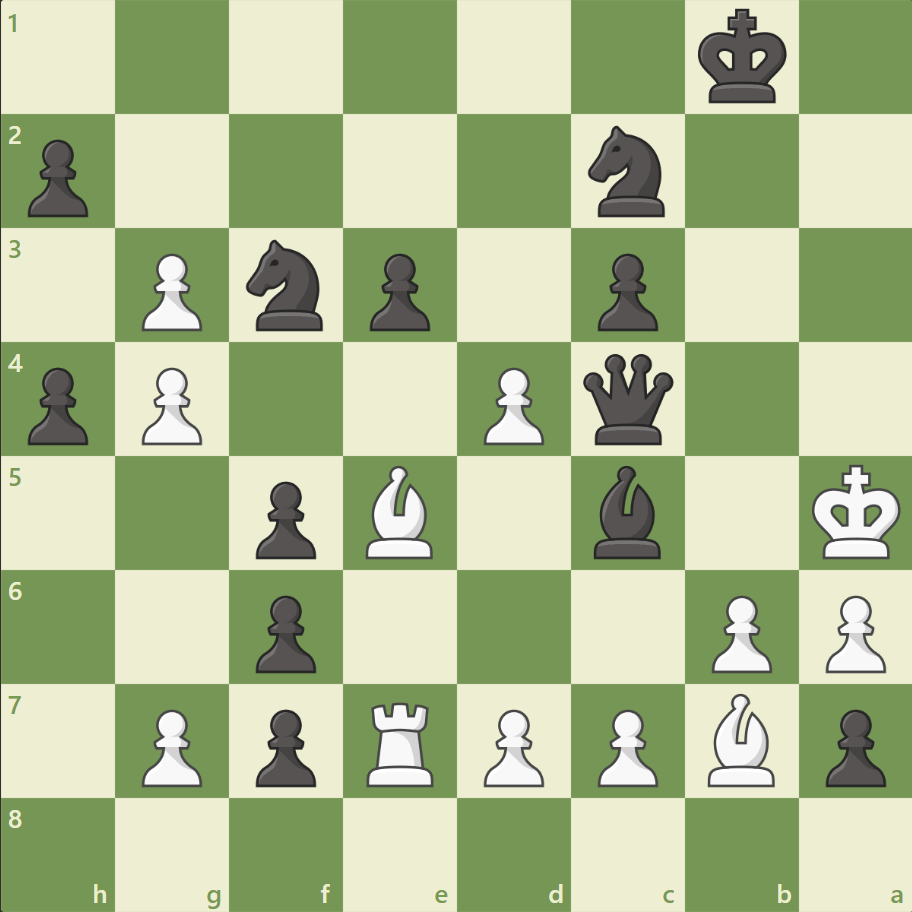B: (698, 687, 782, 790), (358, 460, 442, 563)
K: (806, 458, 906, 566)
P: (474, 700, 549, 791), (133, 700, 208, 791), (701, 586, 776, 677), (474, 359, 549, 450), (133, 359, 208, 450), (133, 246, 208, 337), (588, 700, 662, 791), (815, 586, 889, 677)
R: (360, 693, 442, 790)
b: (585, 460, 669, 563)
k: (692, 4, 792, 112)
n: (238, 234, 335, 337), (579, 121, 676, 223)
p: (247, 700, 322, 791), (247, 586, 322, 677), (247, 473, 322, 564), (20, 359, 95, 450), (20, 132, 95, 223), (815, 700, 889, 791), (588, 246, 662, 337), (361, 246, 435, 337)
q: (578, 349, 677, 449)
